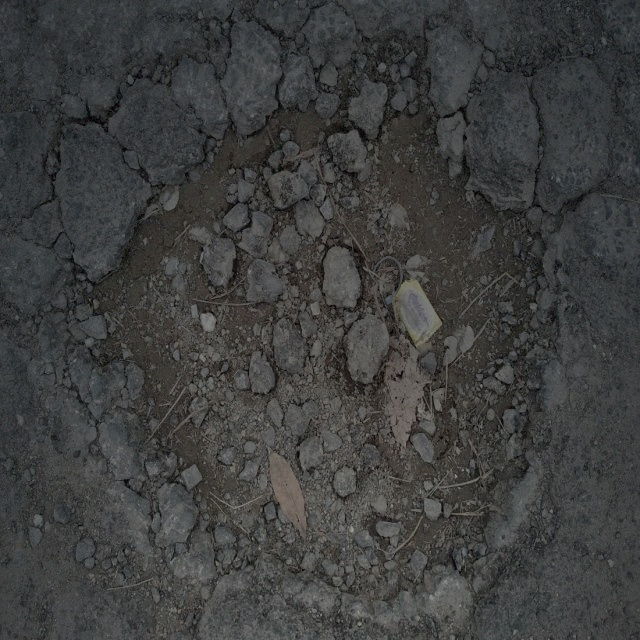pothole: (84, 60, 562, 590)
